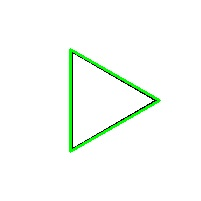line_segment: (69, 49, 160, 152)
